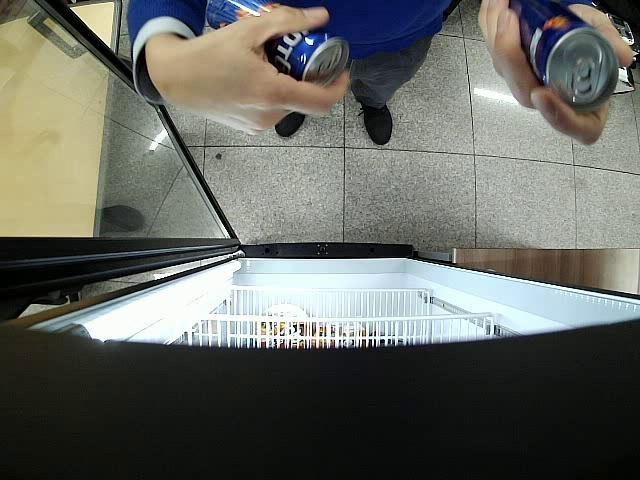16_hot6: (206, 0, 348, 86), (508, 0, 619, 109)
